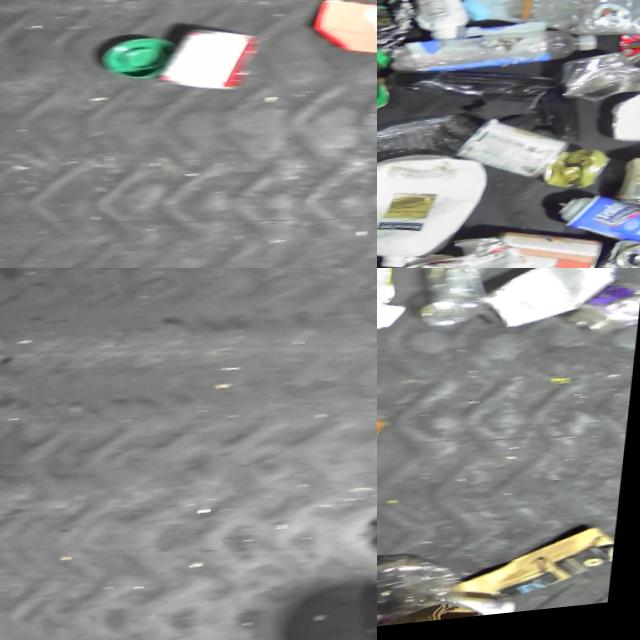can: (476, 268, 632, 350), (457, 114, 575, 195), (552, 189, 640, 268), (560, 53, 640, 118), (566, 287, 640, 354), (491, 228, 607, 268), (540, 149, 614, 203), (564, 239, 640, 268), (615, 148, 640, 222)
milk_jug: (377, 148, 490, 268), (460, 0, 640, 45)
plastic_bottle: (388, 20, 600, 95), (377, 543, 475, 640), (504, 0, 640, 63), (418, 268, 494, 340)
